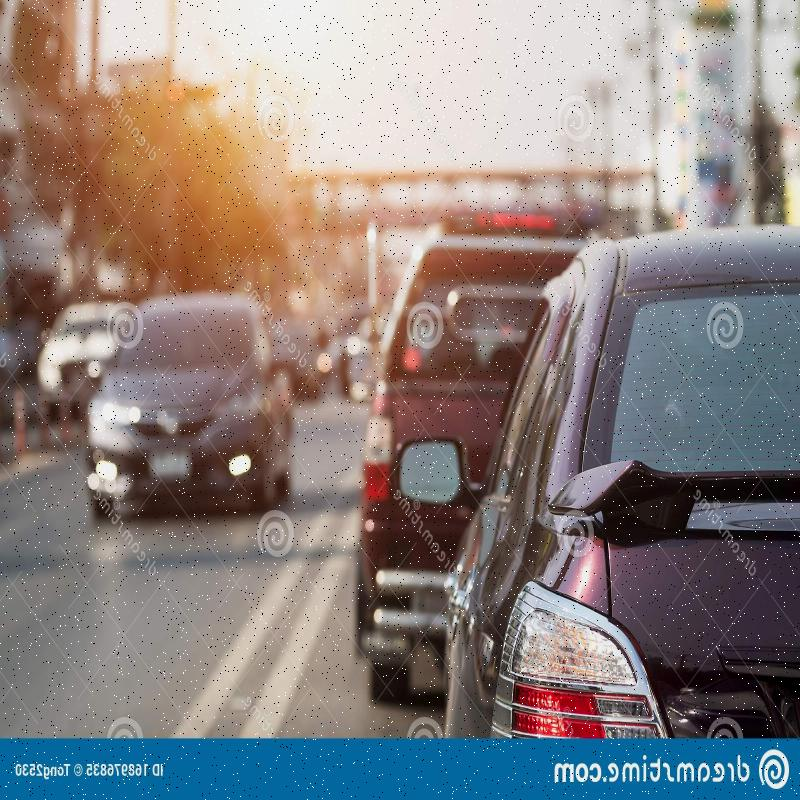car: (432, 160, 800, 800), (98, 286, 291, 502)
